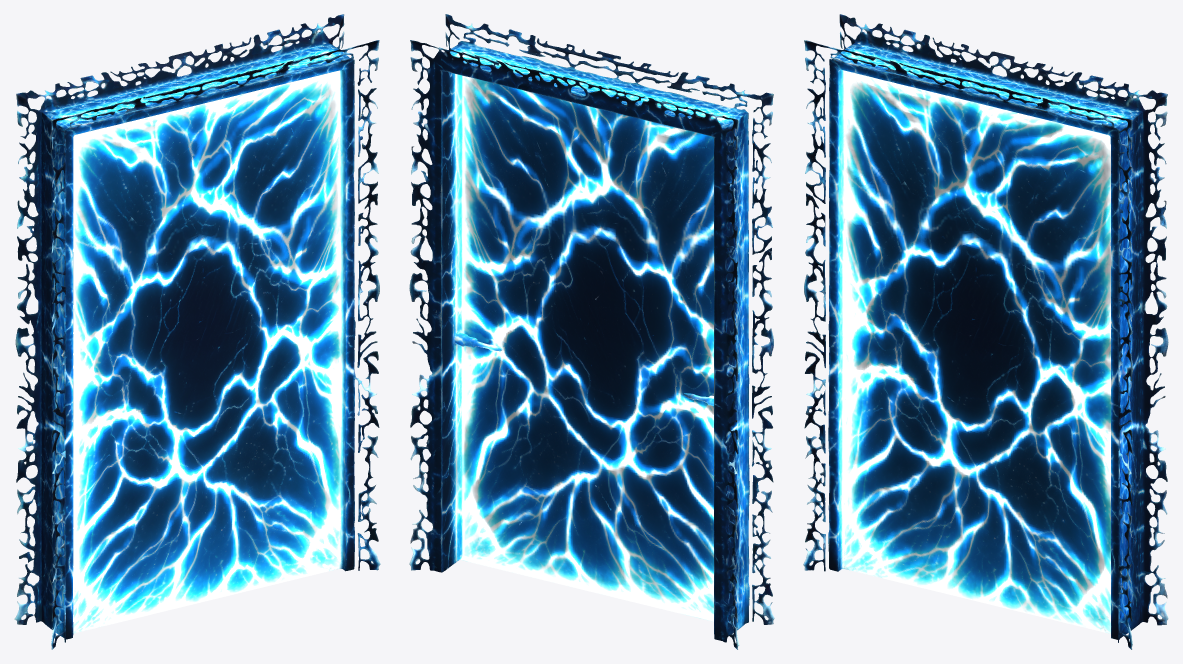
Rendered from gate.glb.
The picture shows the model from 3 angles, left to right: view 1: azimuth 30°, elevation 25°; view 2: azimuth 150°, elevation 25°; view 3: azimuth 330°, elevation 25°; orthographic projection.
Bounding box in the file's own units: 1.24 × 1.9 × 0.2368.
Materials: 1 (1 with a texture image).
